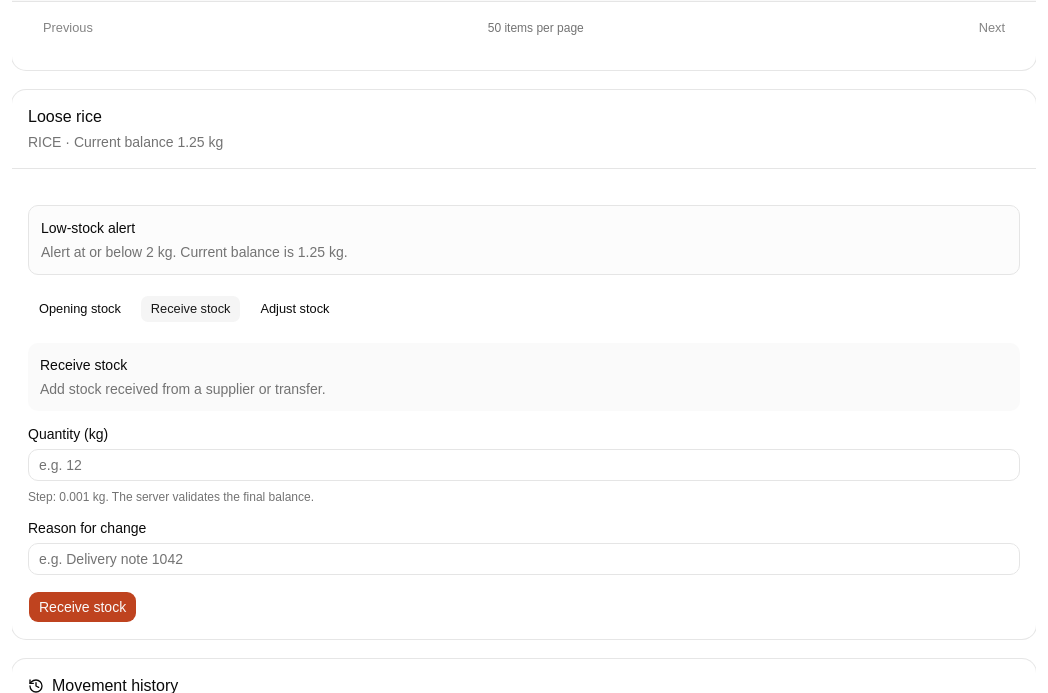
shows a rejected adjustment without claiming it was posted
(page scrolled)
Click the button "Adjust stock".
click(295, 309)  # box [250,295,340,323]
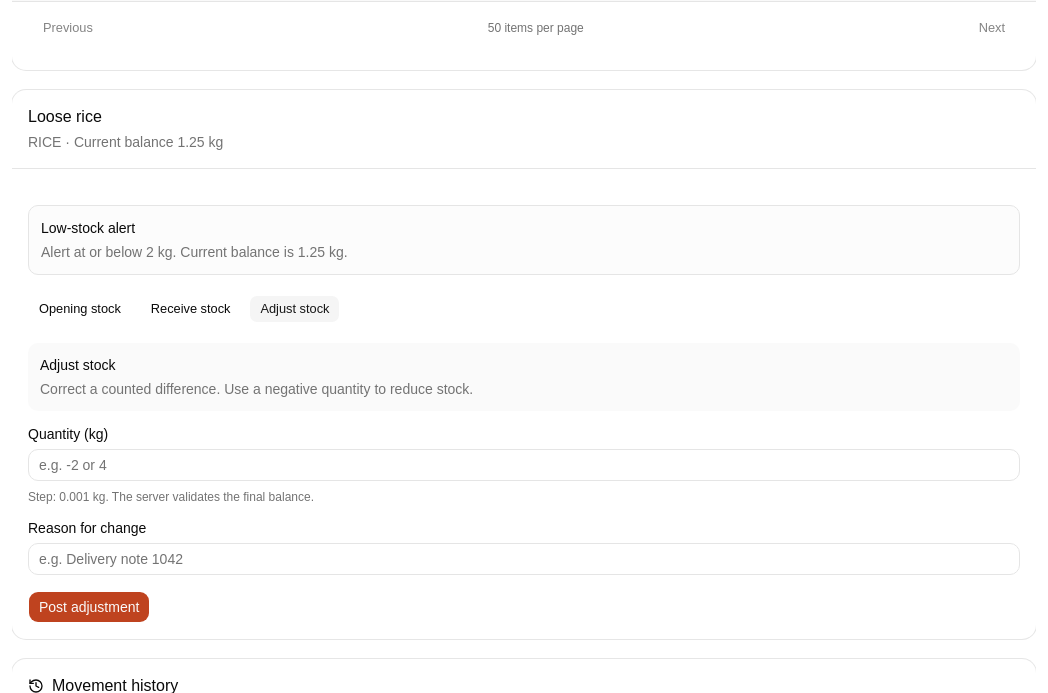
Type "-2.000" into the field labelled "Quantity (kg)".
click(524, 465); type("-2.000")  # box [28,449,1020,481]
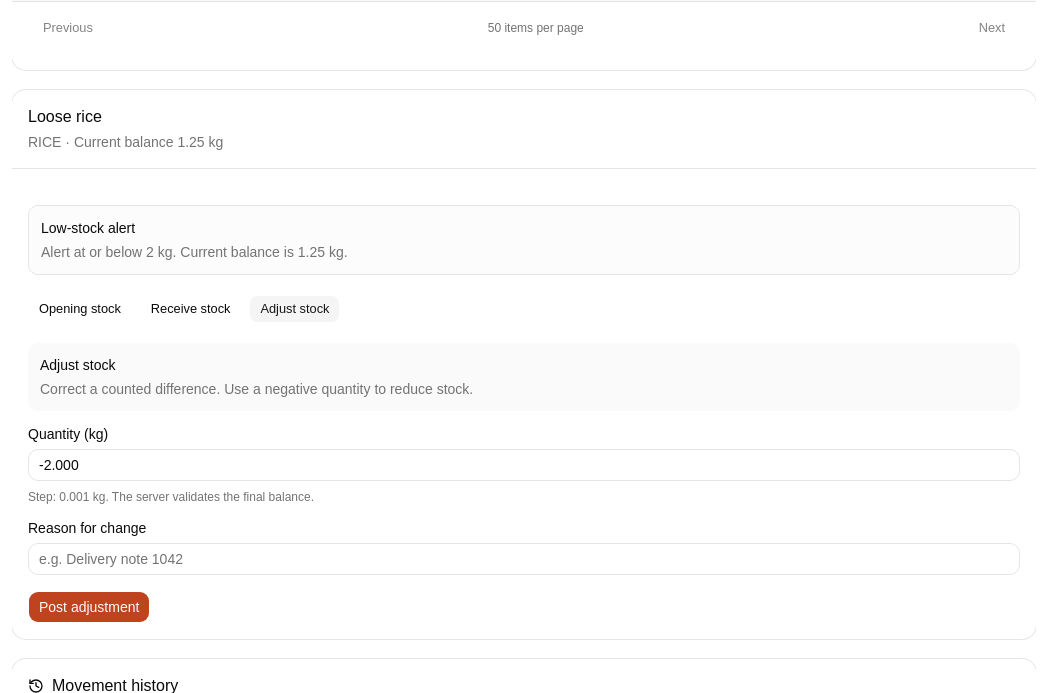
Type "Cycle count correction" into the field labelled "Reason for change".
click(524, 559); type("Cycle count correction")  # box [28,543,1020,575]
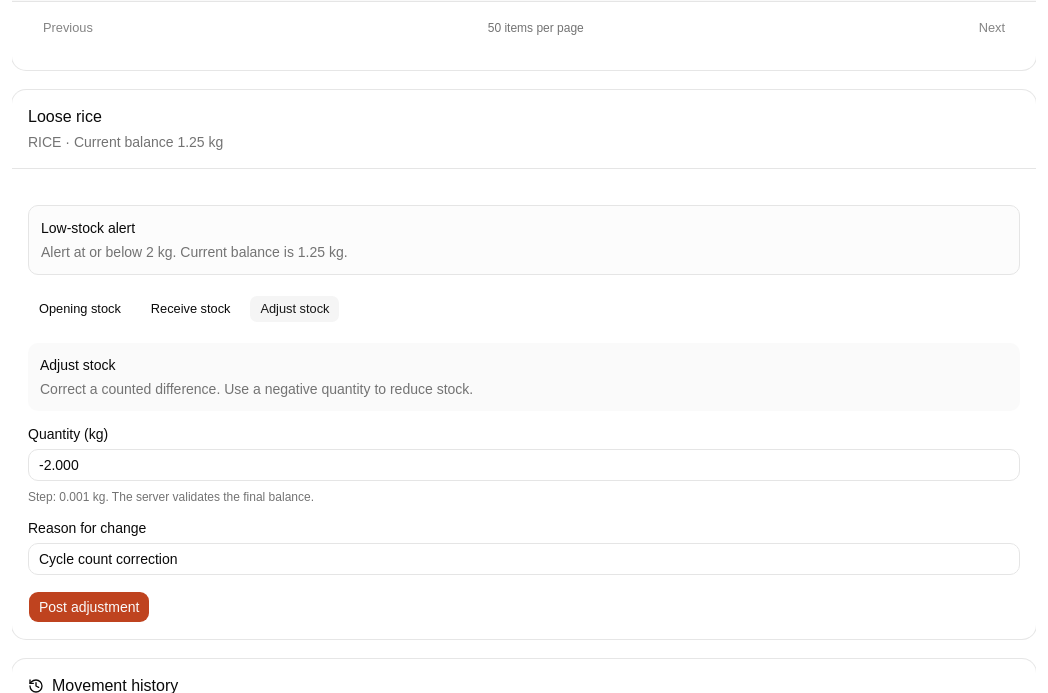
Click the button "Post adjustment".
click(89, 607)  # box [28,591,150,623]
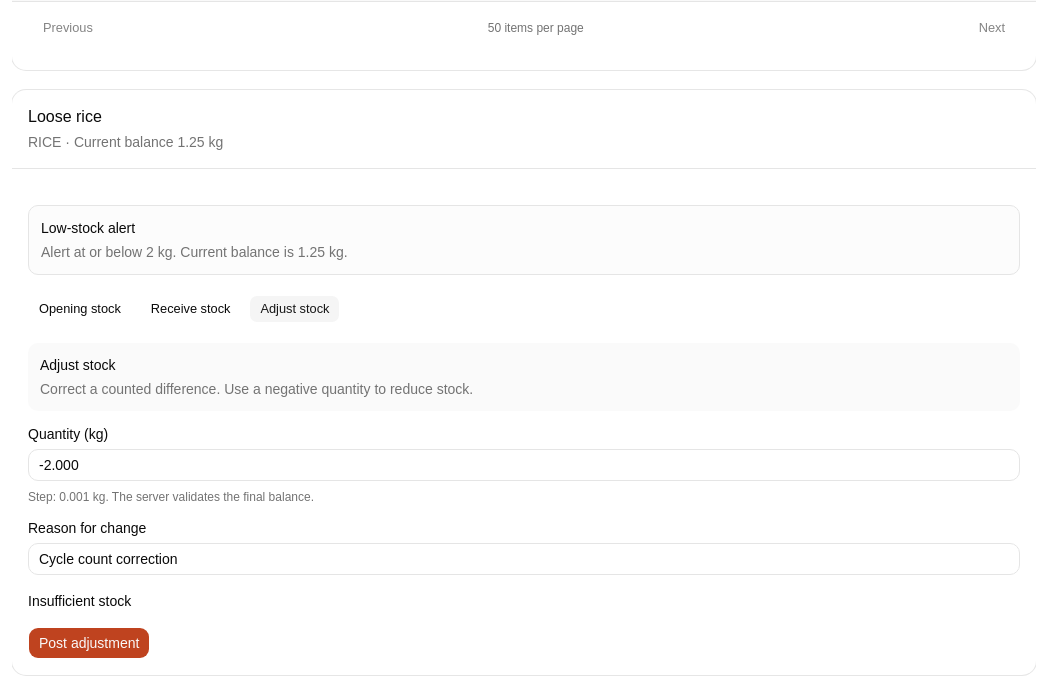
Expected: the message reads "Insufficient stock", [28,593,131,609]
